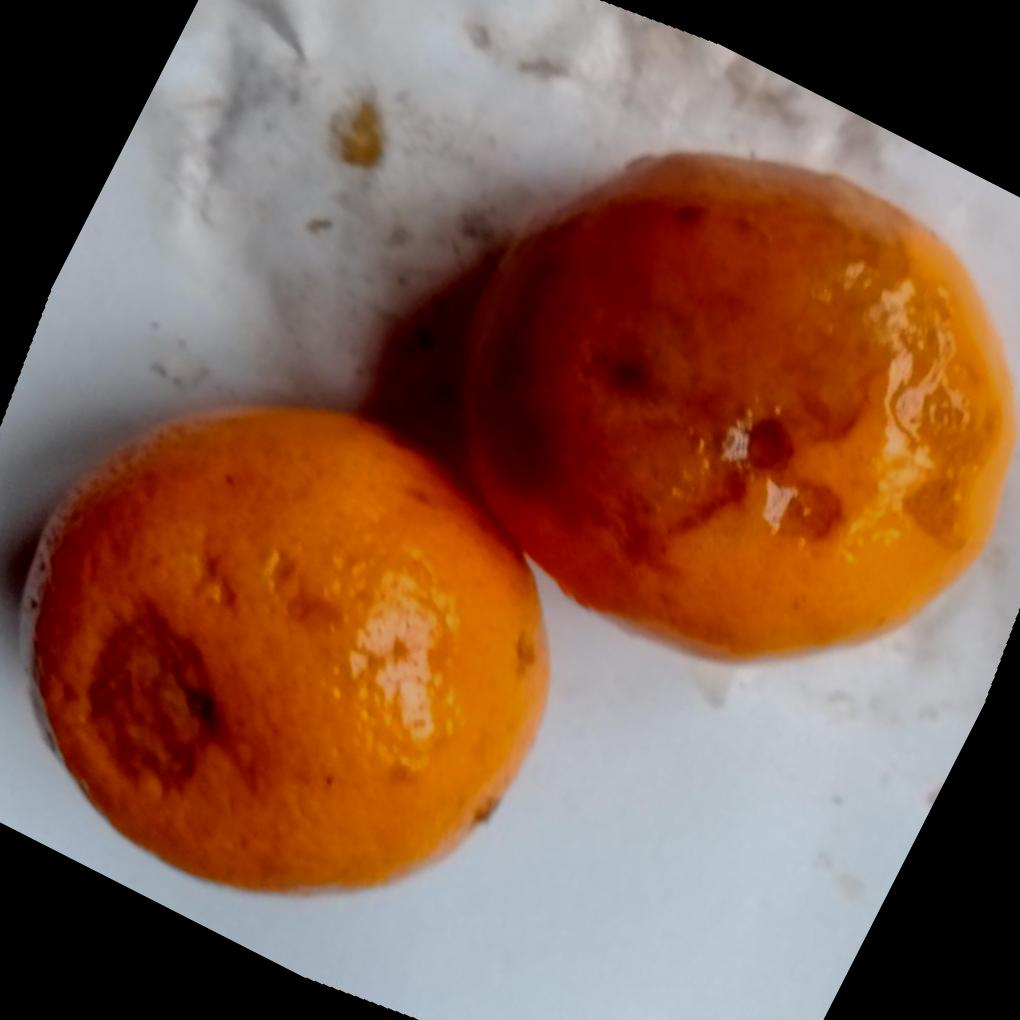FreshOrange: (16, 149, 1018, 899)
